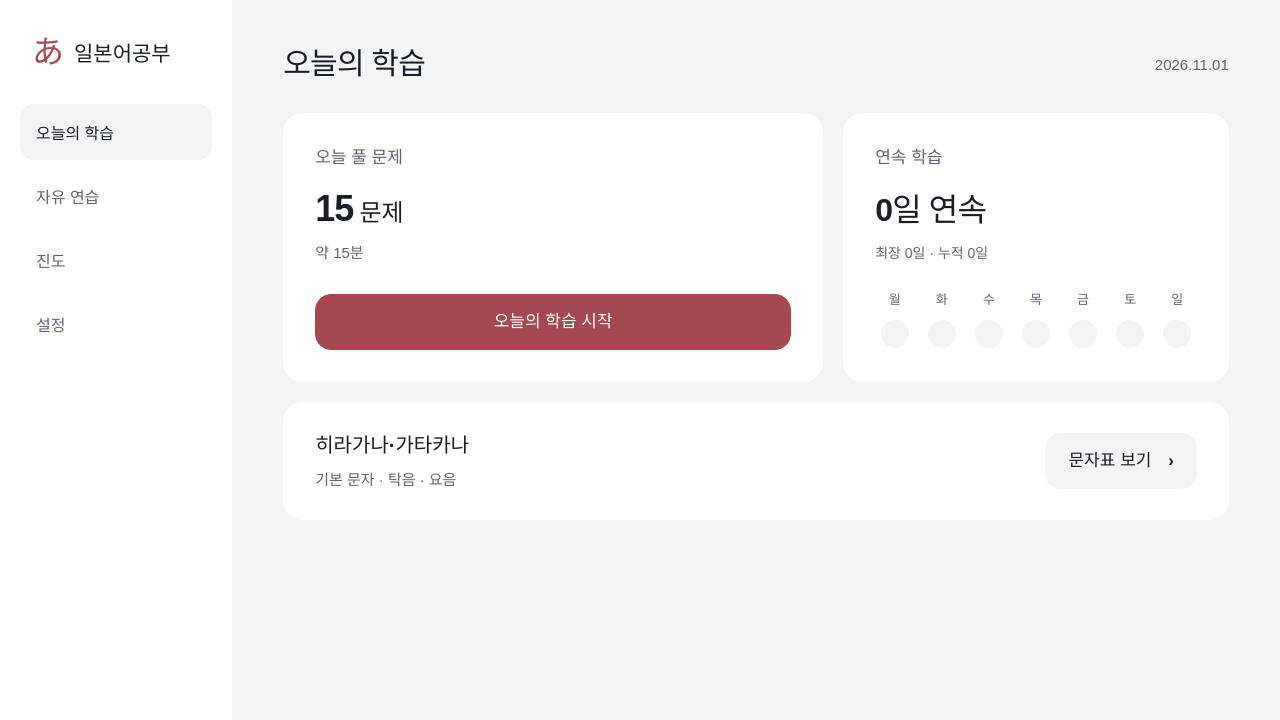
Scenario: app navigation › offers level and script ranges for free study
Expected: the heading "오늘의 학습" is shown, [283,44,425,84]
Click the button "자유 연습" at (116, 196), box [20,168,212,224]
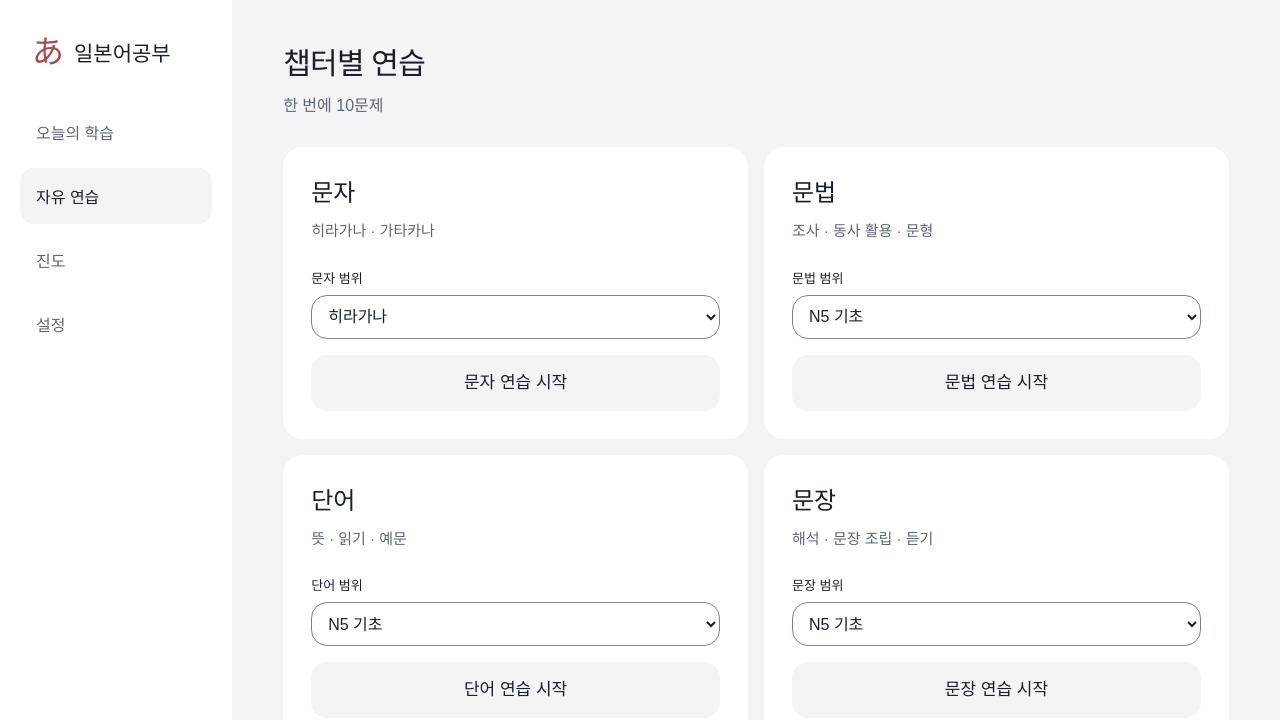
Select "가타카나" in the dropdown labelled "문자 범위" at (516, 317), box [311,295,720,339]
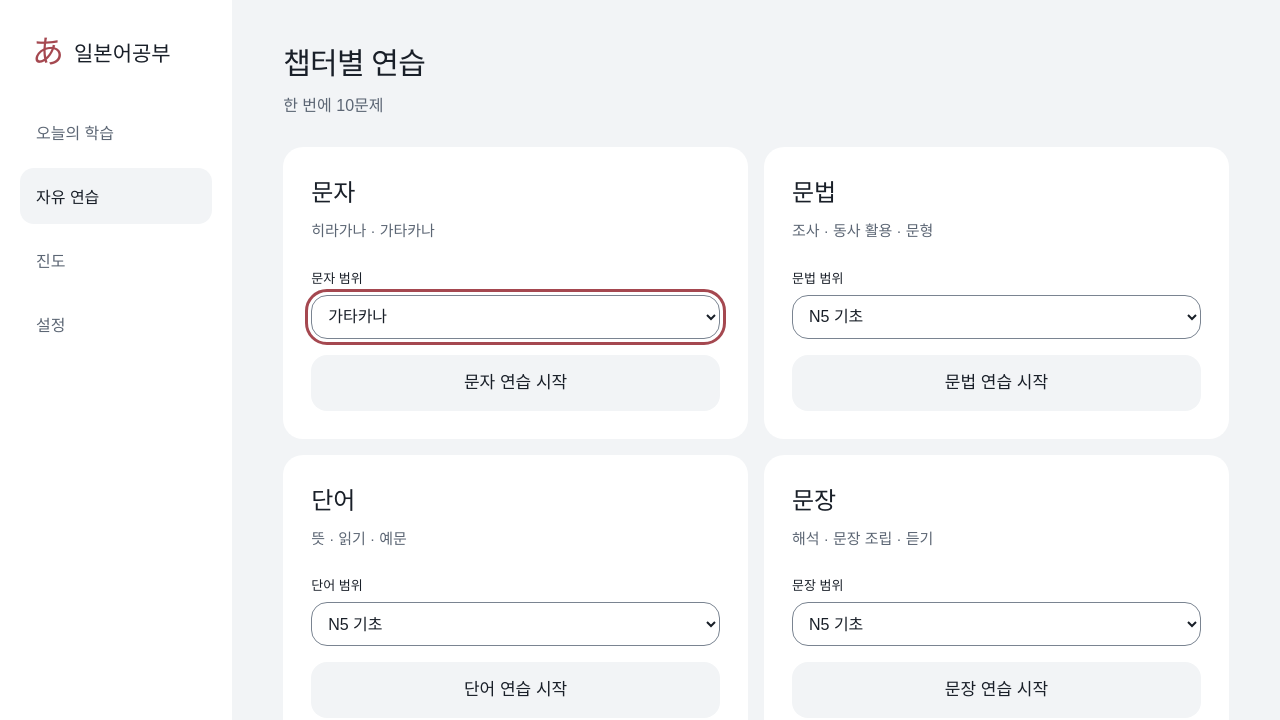
Click the button "문자 연습 시작" at (516, 383), box [311,355,720,411]
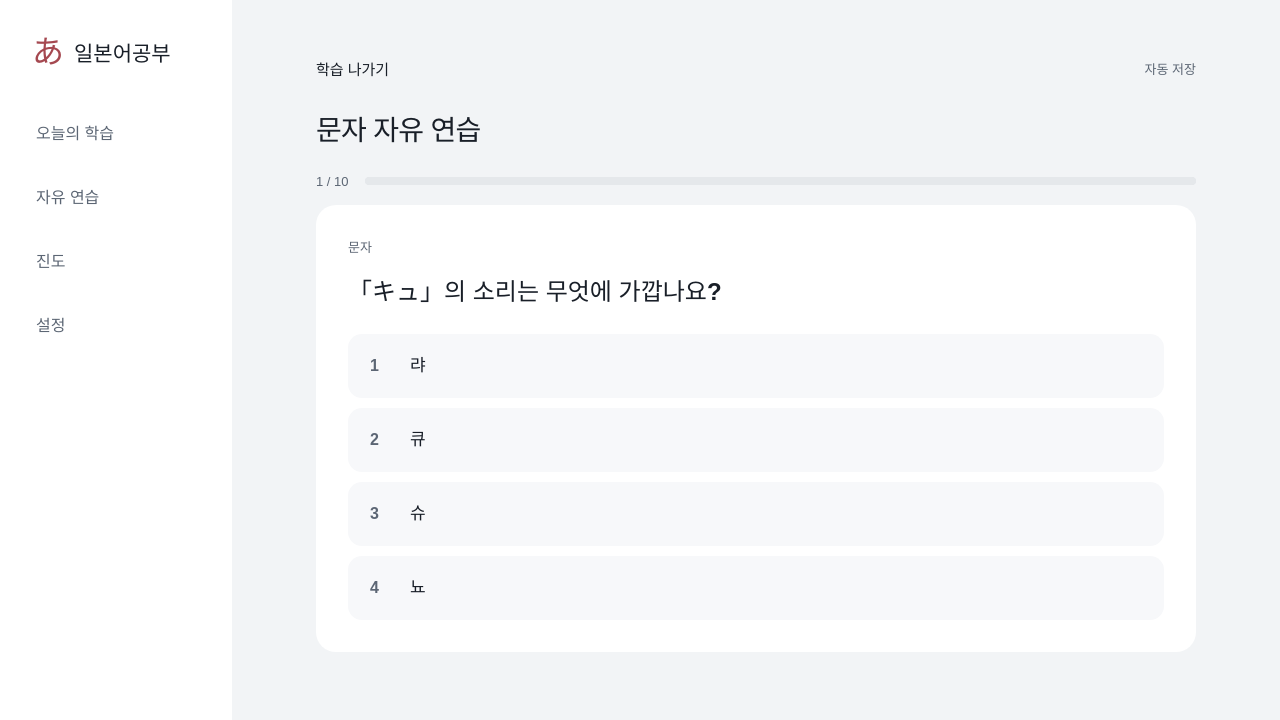
Expected: the heading "문자 자유 연습" is shown, [316,115,480,146]
